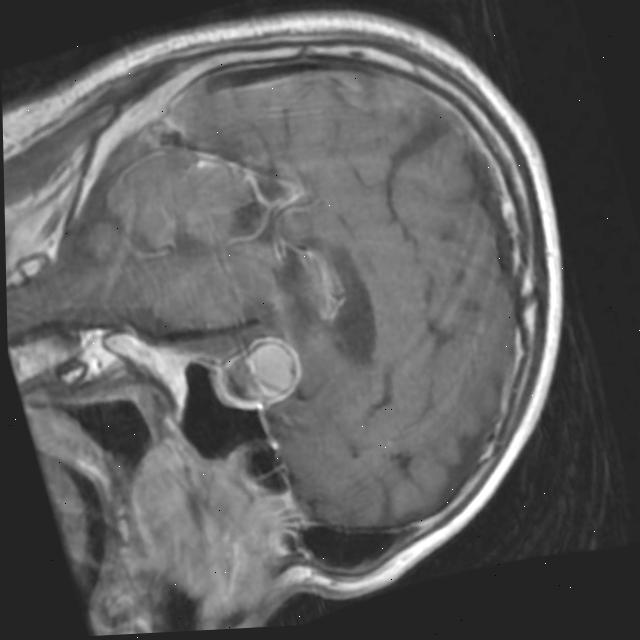Pituitary: (202, 326, 309, 421)
